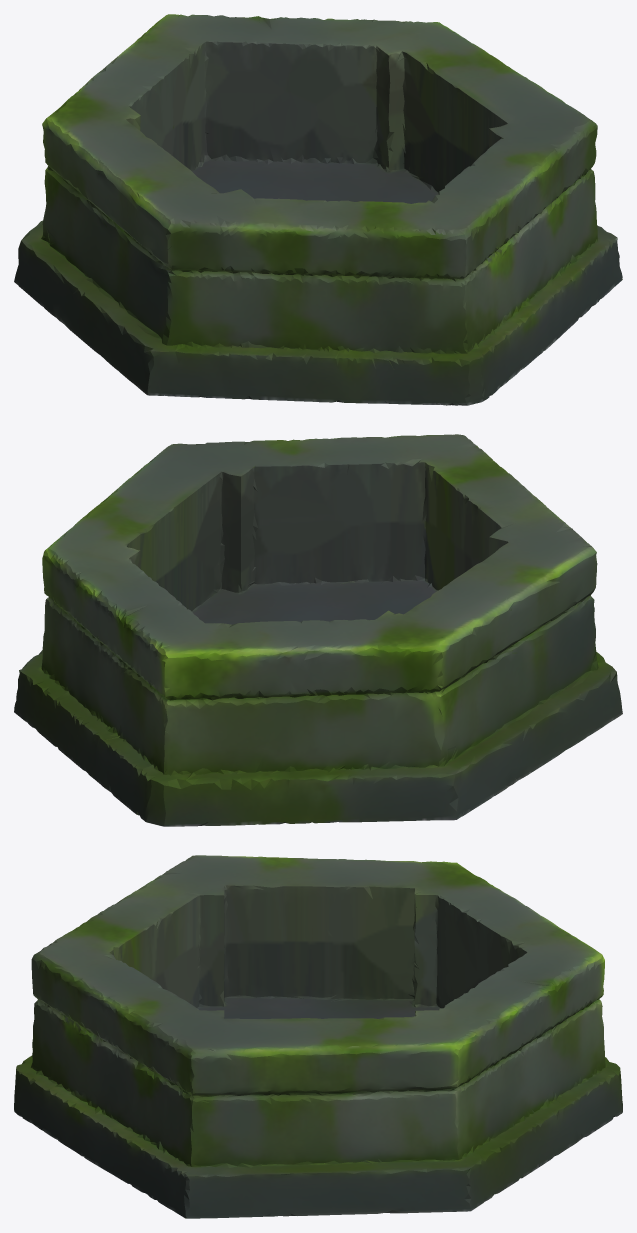
Rendered from rodin_Lab_ArchGate_raw.glb.
3 views of the same model, one above another, from view 1: azimuth 30°, elevation 25°; view 2: azimuth 150°, elevation 25°; view 3: azimuth 270°, elevation 25° (orthographic). The views are drawn at different scales.
Parts seen in each view (by area): view 1: model; view 2: model; view 3: model.
Boxes of the visible parts, x1,y1,x2,y2 form: model: (14,14,622,405); model: (14,434,622,826); model: (14,855,622,1218).
Size of the model in its own units: 1.62 by 0.5383 by 1.89.
Materials: 1 (1 with a texture image).
